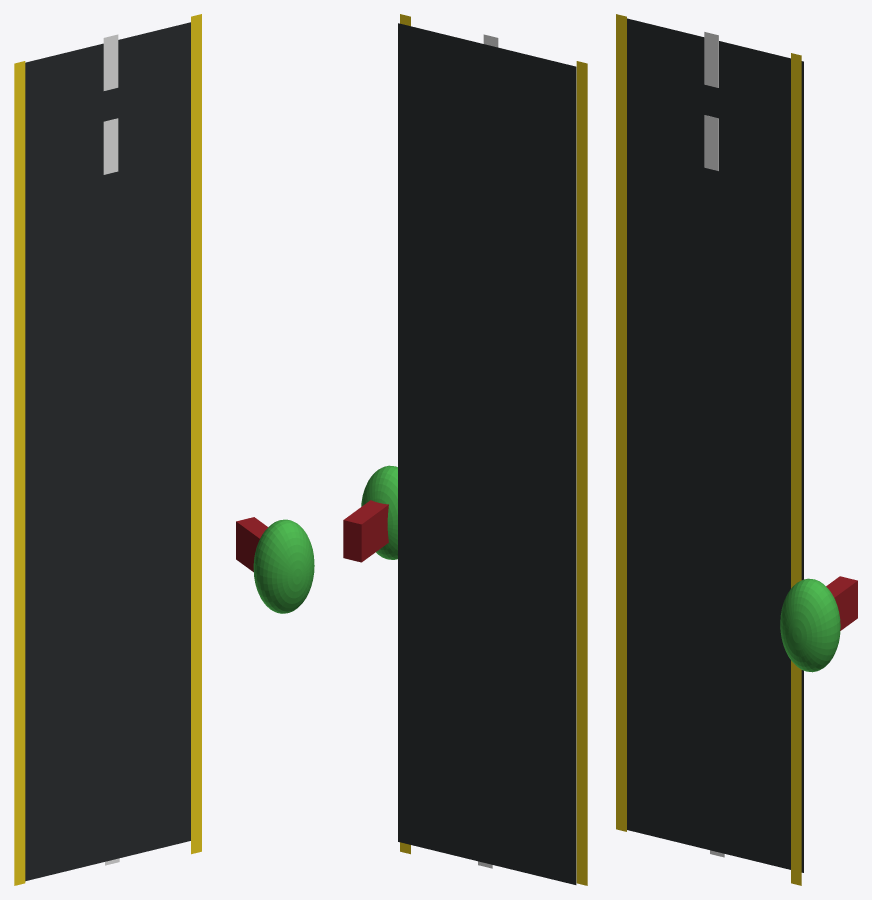
File: tinker.obj
3 views of the same model, side by side, from view 1: azimuth 30°, elevation 25°; view 2: azimuth 150°, elevation 25°; view 3: azimuth 330°, elevation 25° (orthographic).
Visible parts, largest first — view 1: group_0_2829873, group_0_16768282, group_0_4634441, group_0_16448250, group_0_9771553; view 2: group_0_2829873, group_0_16768282, group_0_9771553, group_0_4634441; view 3: group_0_2829873, group_0_16768282, group_0_4634441, group_0_16448250, group_0_9771553.
Boxes of the visible parts, x1,y1,x2,y2 form: group_0_2829873: (25, 22, 190, 881); group_0_16768282: (14, 14, 201, 885); group_0_4634441: (253, 519, 314, 613); group_0_16448250: (103, 34, 119, 865); group_0_9771553: (236, 517, 268, 572); group_0_2829873: (398, 23, 576, 884); group_0_16768282: (400, 14, 587, 885); group_0_9771553: (343, 500, 388, 562); group_0_4634441: (361, 465, 397, 559); group_0_2829873: (627, 18, 803, 872); group_0_16768282: (616, 14, 801, 885); group_0_4634441: (780, 578, 840, 672); group_0_16448250: (704, 32, 724, 857); group_0_9771553: (826, 576, 857, 630).
Size of the model in its own units: 71.5 by 220 by 25.
